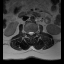CCS_normal: (30, 29, 32, 38)
LFS_stenosis: (34, 29, 36, 35)
LLS_normal: (32, 29, 34, 36)
RFS_normal: (26, 30, 28, 36)
RLS_normal: (28, 30, 30, 37)
